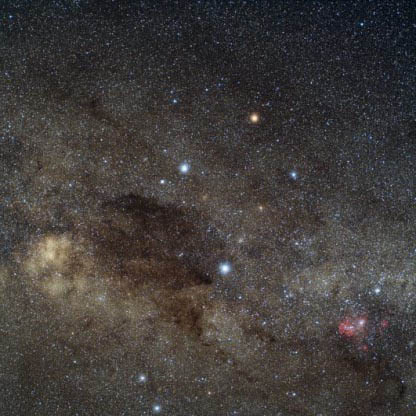Southern Cross: (210, 256, 238, 285), (284, 160, 309, 189), (170, 154, 193, 181), (245, 107, 265, 128)
